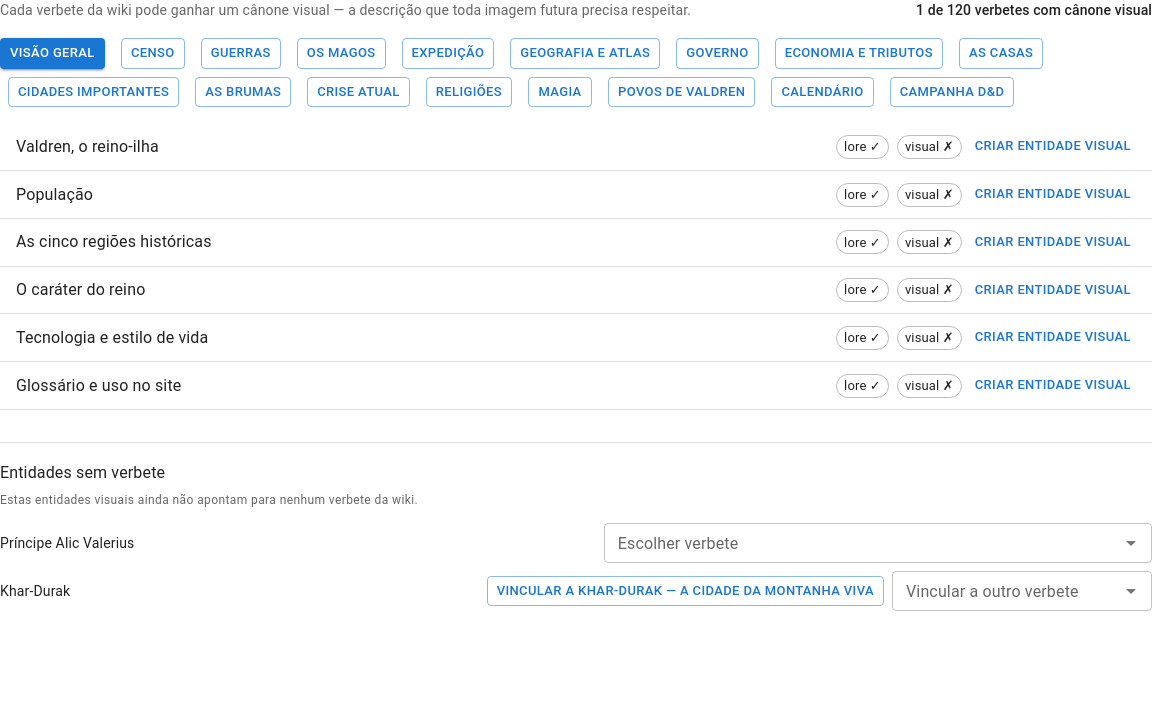
Test case: AcervoTab › opens the canon sheet of a covered entry for editing
Click the button "As Casas" at {"x": 1001, "y": 53}, box [959,38,1043,69]
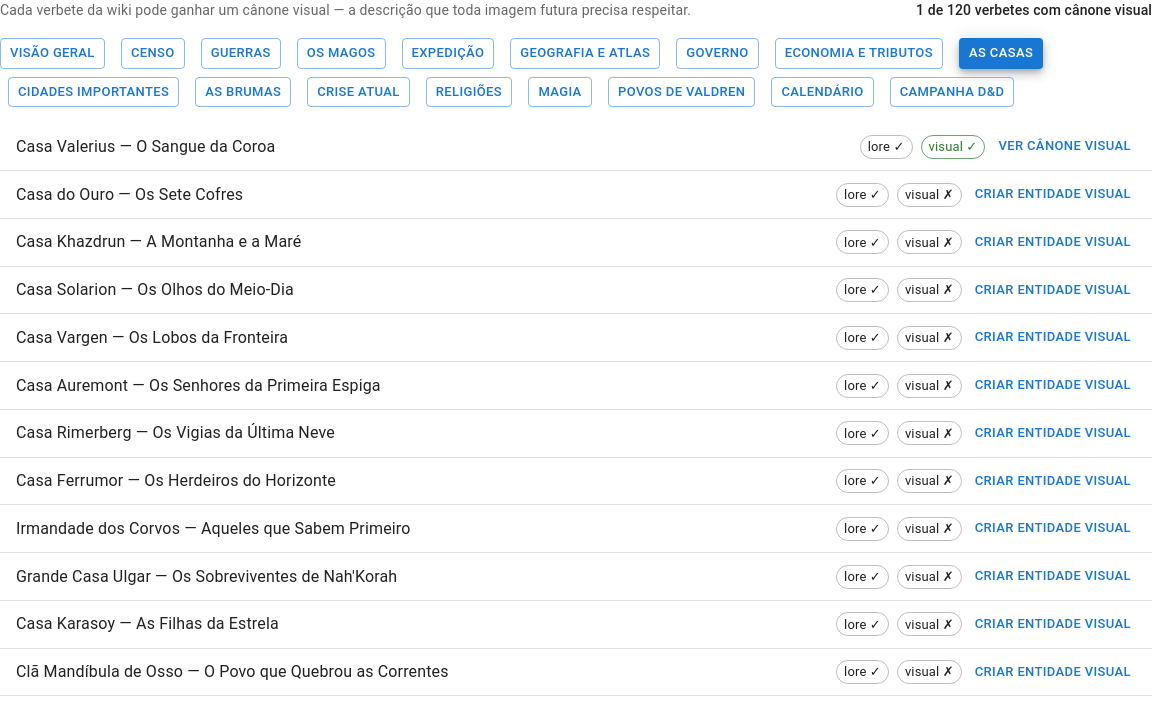
Expected: the text "visual ✓" is shown, [928,139,977,154]
Click the button "Ver cânone visual" at {"x": 1065, "y": 147}, box [993,132,1136,162]
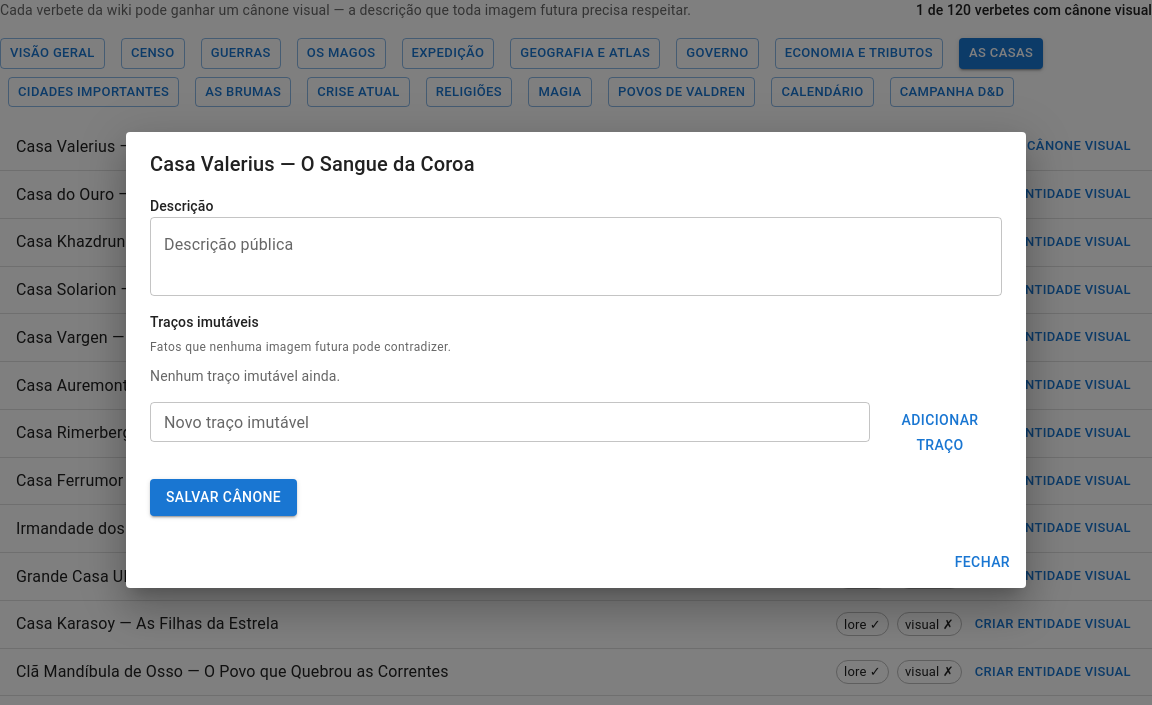
Expected: the heading "Traços imutáveis" is shown, [150,314,259,330]
Expected: the button "Salvar cânone" is shown, [150,480,297,516]
